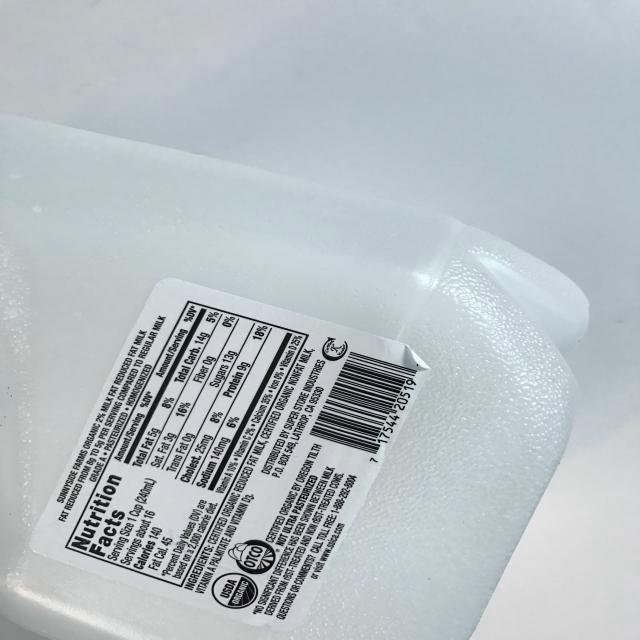plastic: (0, 92, 604, 640)
